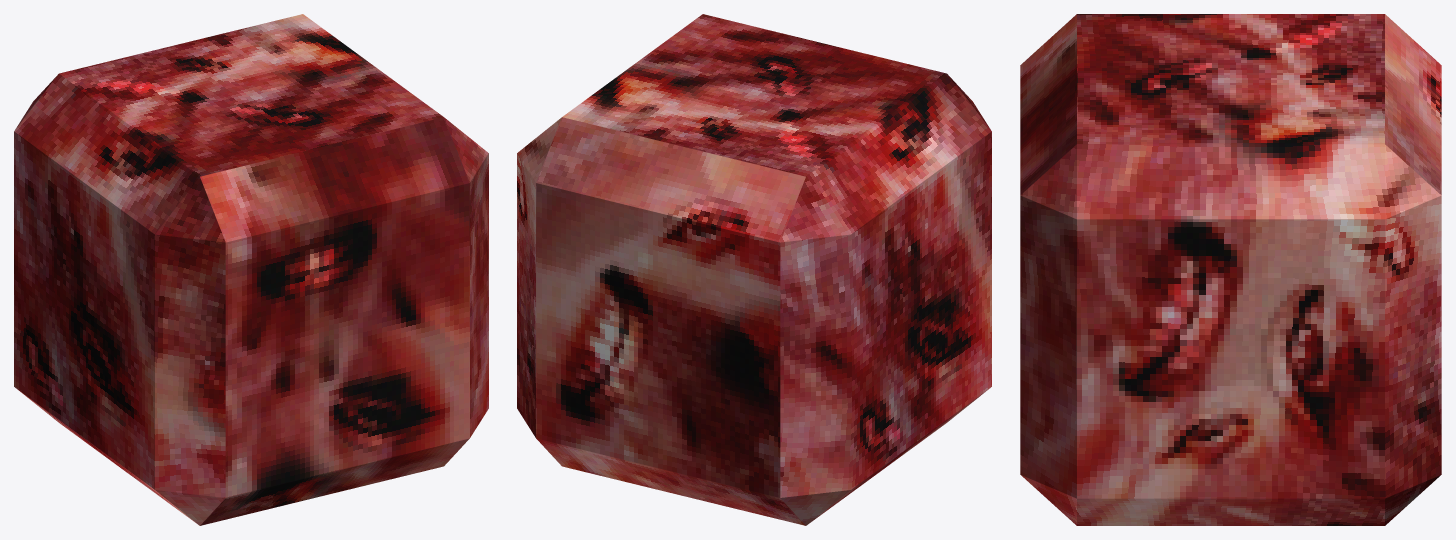
The model's file is Meatbox.gltf.
3 views of the same model, side by side, from view 1: azimuth 30°, elevation 25°; view 2: azimuth 150°, elevation 25°; view 3: azimuth 270°, elevation 25° (orthographic). The views are drawn at different scales.
Parts seen in each view (by area): view 1: Cube; view 2: Cube; view 3: Cube.
Boxes of the visible parts, box(x1,y1,x2,y2) form: Cube: box(14, 14, 488, 525); Cube: box(517, 14, 991, 525); Cube: box(1020, 14, 1441, 525).
Bounding box in the file's own units: 2 × 2 × 2.
Materials: 1 (1 with a texture image).
